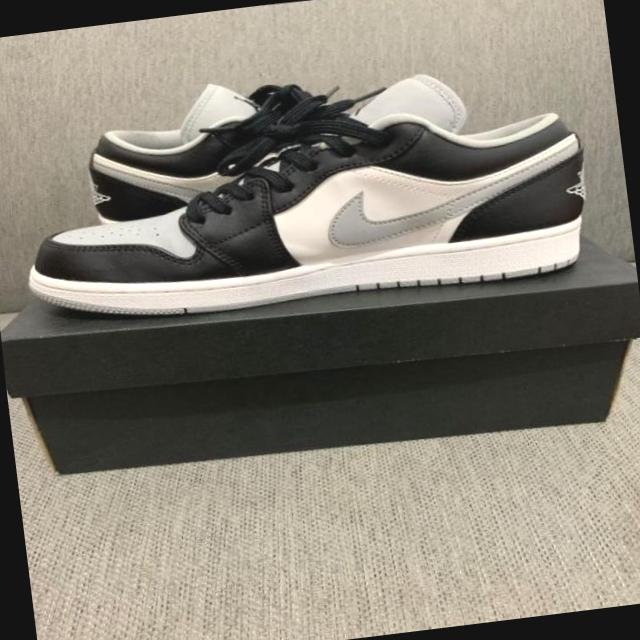nike_fake_jordan: (10, 83, 598, 339), (81, 52, 498, 226)
